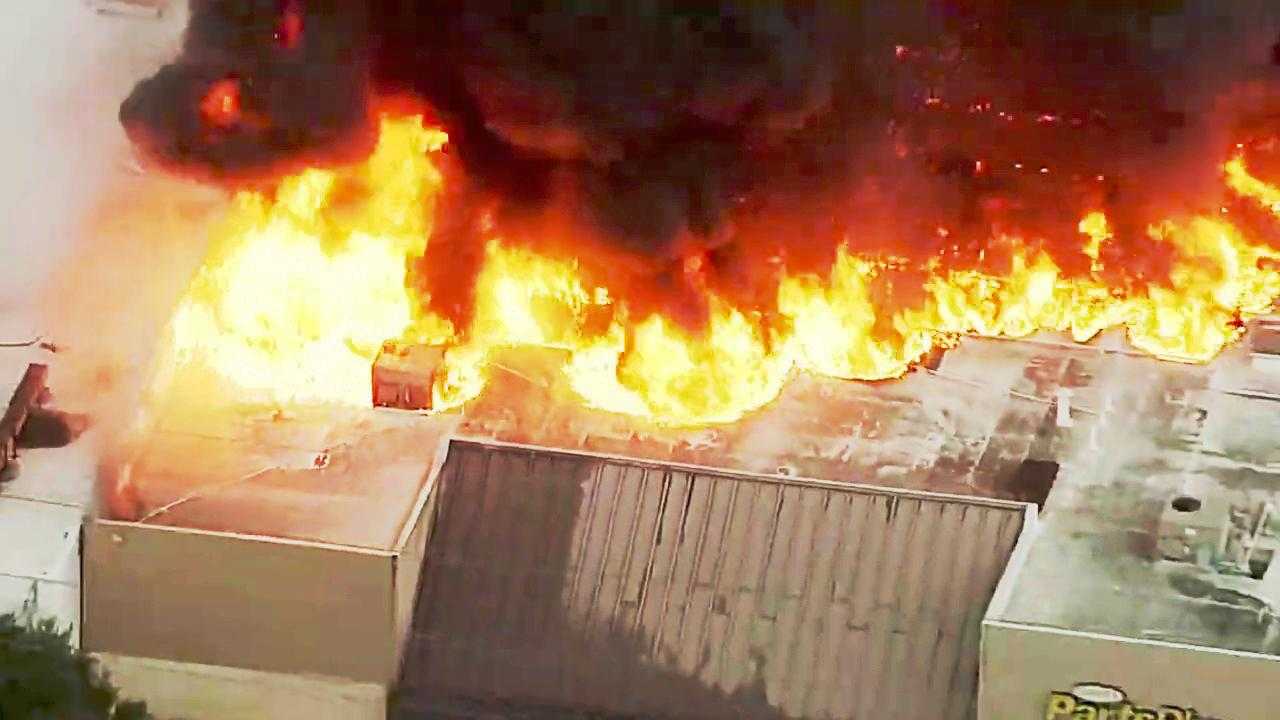fire: (169, 140, 410, 404), (584, 300, 775, 430), (901, 244, 1090, 352), (1126, 185, 1230, 346), (770, 262, 867, 390)
smoke: (502, 0, 977, 165)
